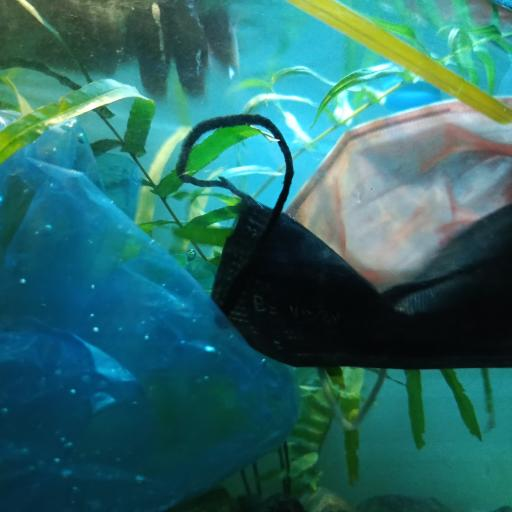mask: (178, 114, 512, 370), (284, 93, 512, 294)
plastic_bag: (0, 106, 303, 512)
plastic_straw: (293, 0, 512, 123)
